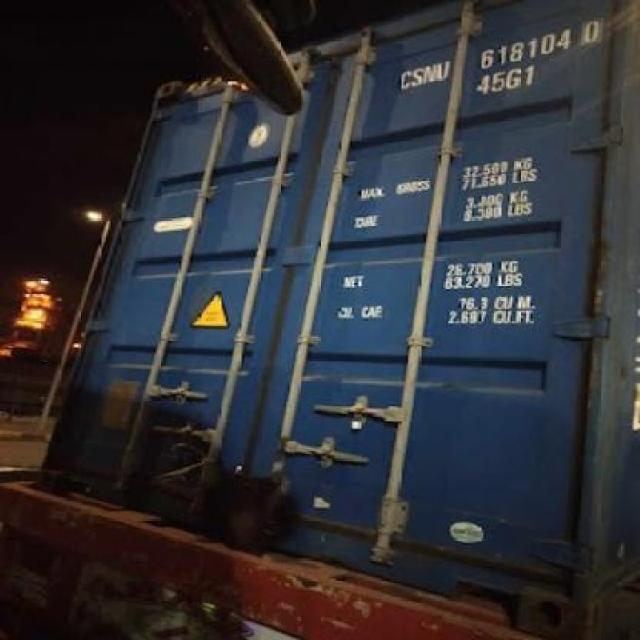ISO: (476, 63, 537, 98)
container_number: (397, 17, 609, 90)
